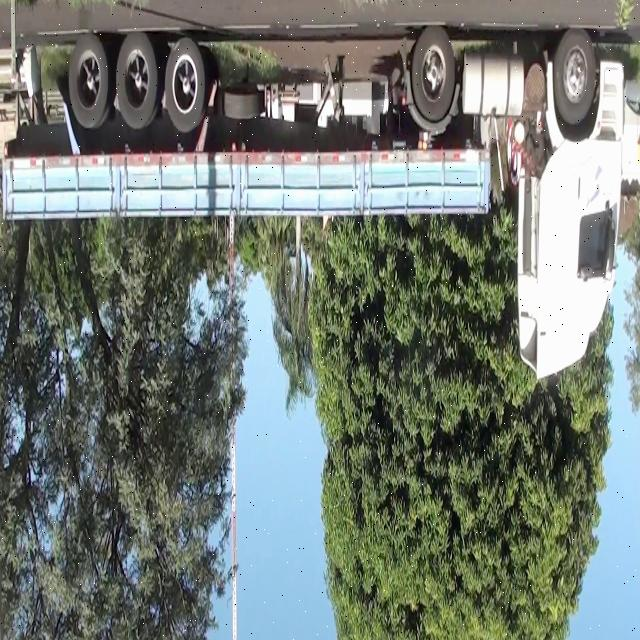-axle: (554, 26, 602, 126), (116, 32, 160, 128), (412, 31, 455, 118), (165, 39, 205, 129), (70, 39, 109, 126)
